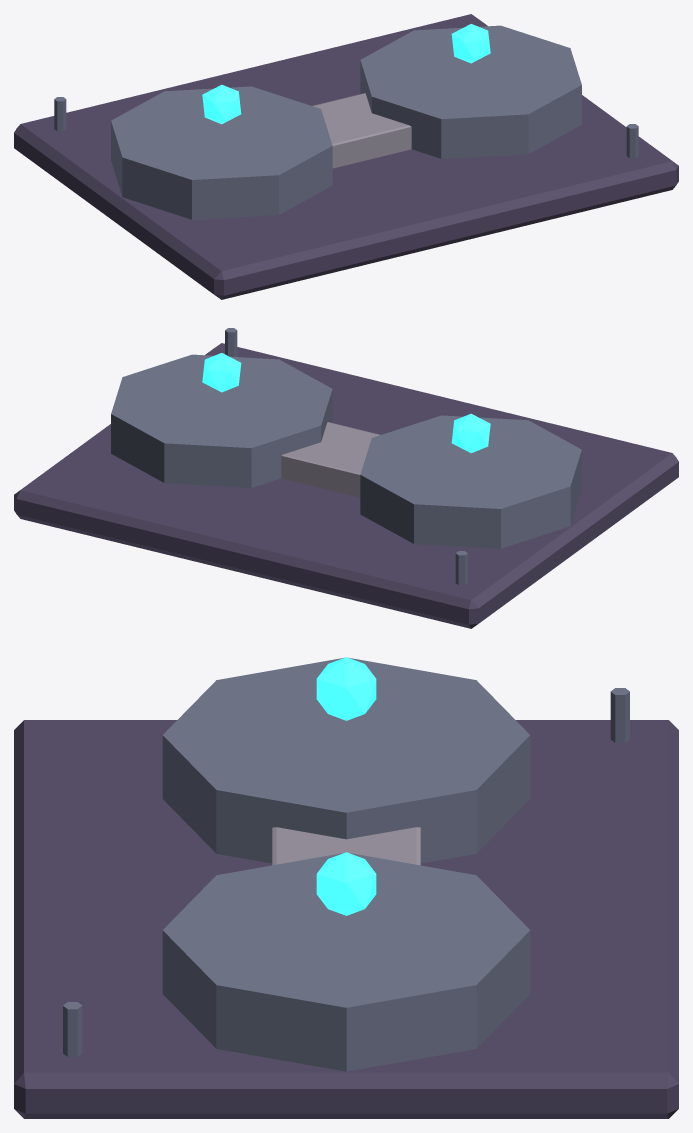
The model's file is veil-citadel.glb.
3 renders of one model, top to bottom at view 1: azimuth 30°, elevation 25°; view 2: azimuth 150°, elevation 25°; view 3: azimuth 270°, elevation 25°, orthographic. The views are drawn at different scales.
Visible parts, largest first — view 1: citadel-floor, citadel-plateau-0, citadel-plateau-1, citadel-spine, citadel-node-1, citadel-node-0, citadel-corner-totem-0, citadel-corner-totem-1; view 2: citadel-floor, citadel-plateau-0, citadel-plateau-1, citadel-spine, citadel-node-1, citadel-node-0; view 3: citadel-floor, citadel-plateau-1, citadel-plateau-0, citadel-spine, citadel-node-0, citadel-node-1, citadel-corner-totem-1, citadel-corner-totem-0.
Part boxes in pixels (x1,y1,x2,y2): citadel-floor: [14, 14, 678, 299]; citadel-plateau-0: [111, 86, 332, 219]; citadel-plateau-1: [360, 25, 581, 158]; citadel-spine: [312, 93, 411, 168]; citadel-node-1: [451, 24, 490, 63]; citadel-node-0: [202, 84, 241, 124]; citadel-corner-totem-0: [54, 97, 66, 131]; citadel-corner-totem-1: [626, 124, 638, 158]; citadel-floor: [14, 343, 678, 628]; citadel-plateau-0: [360, 415, 581, 548]; citadel-plateau-1: [111, 354, 332, 487]; citadel-spine: [281, 422, 380, 497]; citadel-node-1: [202, 353, 241, 392]; citadel-node-0: [451, 413, 490, 453]; citadel-floor: [14, 720, 678, 1118]; citadel-plateau-1: [162, 853, 530, 1071]; citadel-plateau-0: [162, 657, 530, 863]; citadel-spine: [272, 827, 420, 865]; citadel-node-0: [316, 657, 376, 720]; citadel-node-1: [316, 852, 376, 915]; citadel-corner-totem-1: [63, 1002, 82, 1056]; citadel-corner-totem-0: [610, 688, 629, 742].
Size of the model in its own units: 4.4 by 1.06 by 3.4.
